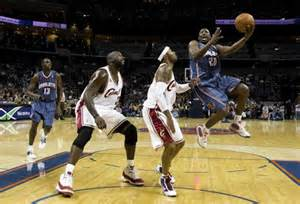basketball: (234, 12, 255, 33)
